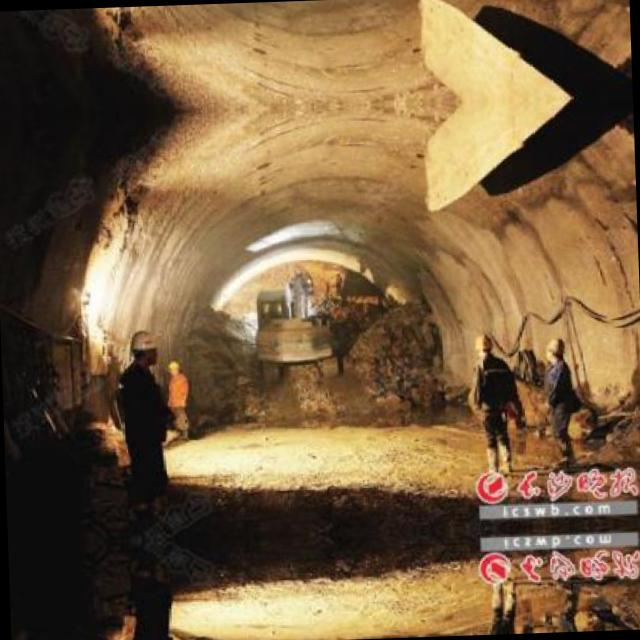helmet: (130, 324, 162, 365), (538, 333, 568, 365), (466, 329, 496, 359), (163, 354, 184, 376)
